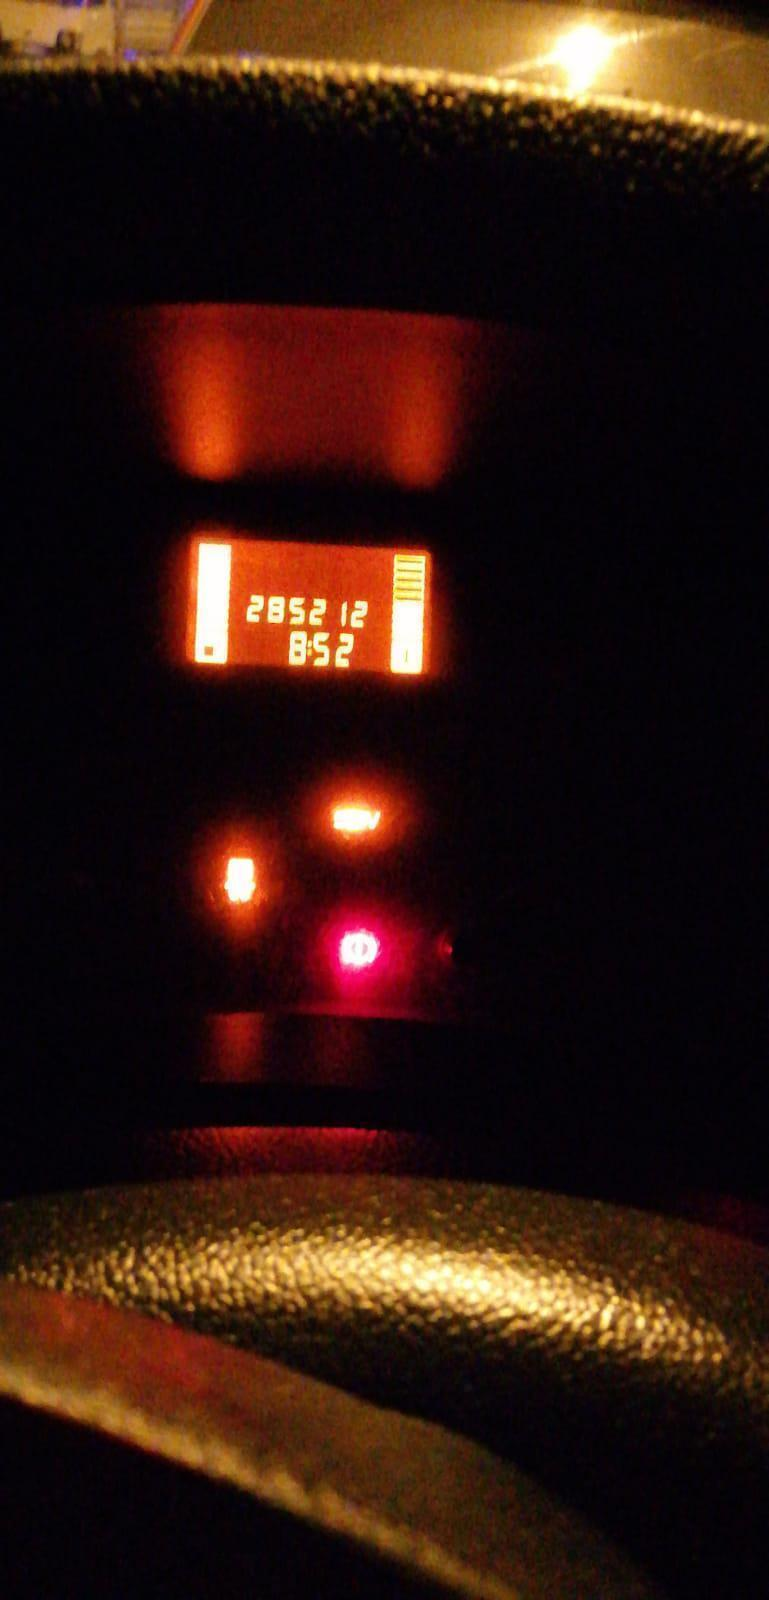1: (339, 600, 347, 627)
2: (334, 632, 354, 668), (245, 594, 264, 623), (349, 599, 368, 628), (308, 597, 326, 626)
5: (312, 631, 330, 666), (288, 596, 306, 624)
8: (287, 630, 307, 665), (266, 595, 286, 624)
X: (306, 639, 313, 656)
odometer: (183, 532, 435, 679)
